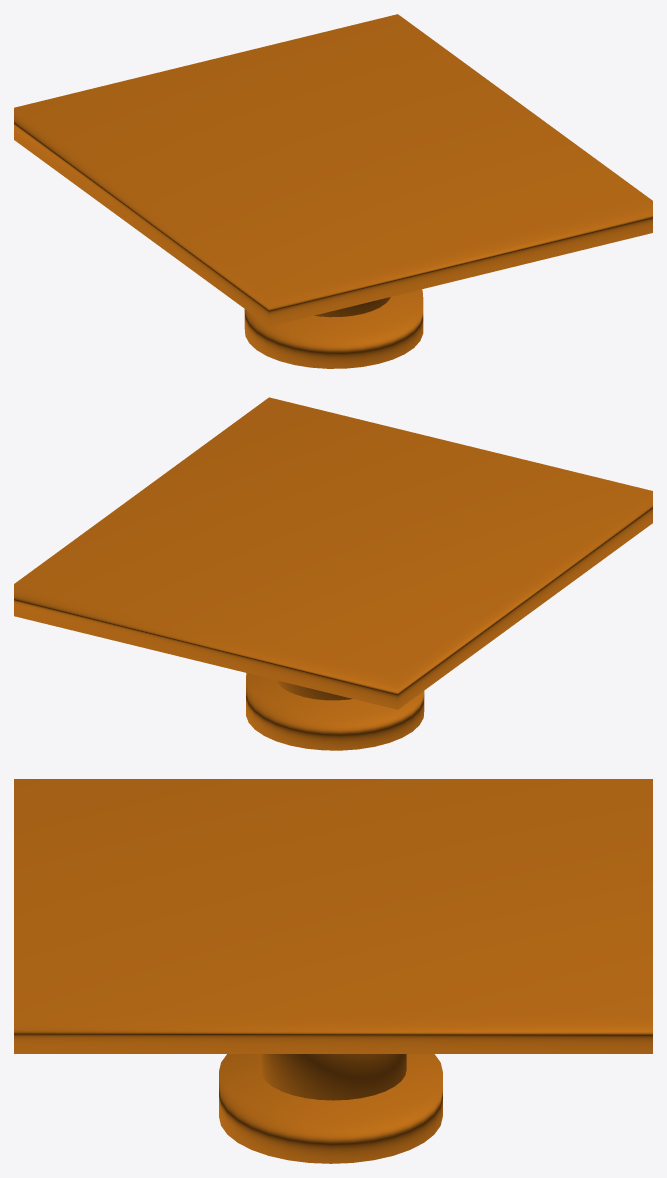
File: single_leg_table.gltf
3 views of the same model, one above another, from view 1: azimuth 30°, elevation 25°; view 2: azimuth 150°, elevation 25°; view 3: azimuth 270°, elevation 25° (orthographic). The views are drawn at different scales.
Visible parts, largest first — view 1: Cube.001, Cylinder.001, Cylinder; view 2: Cube.001, Cylinder.001, Cylinder; view 3: Cube.001, Cylinder.001, Cylinder.
Part boxes in pixels (x1,y1,x2,y2): Cube.001: (14, 14, 652, 326); Cylinder.001: (244, 289, 423, 368); Cylinder: (314, 297, 390, 317); Cube.001: (14, 397, 652, 709); Cylinder.001: (246, 673, 424, 750); Cylinder: (276, 680, 352, 700); Cube.001: (14, 779, 652, 1053); Cylinder.001: (219, 1054, 442, 1163); Cylinder: (260, 1054, 406, 1100).
Bounding box in the file's own units: 7.58 × 3.32 × 8.72.
